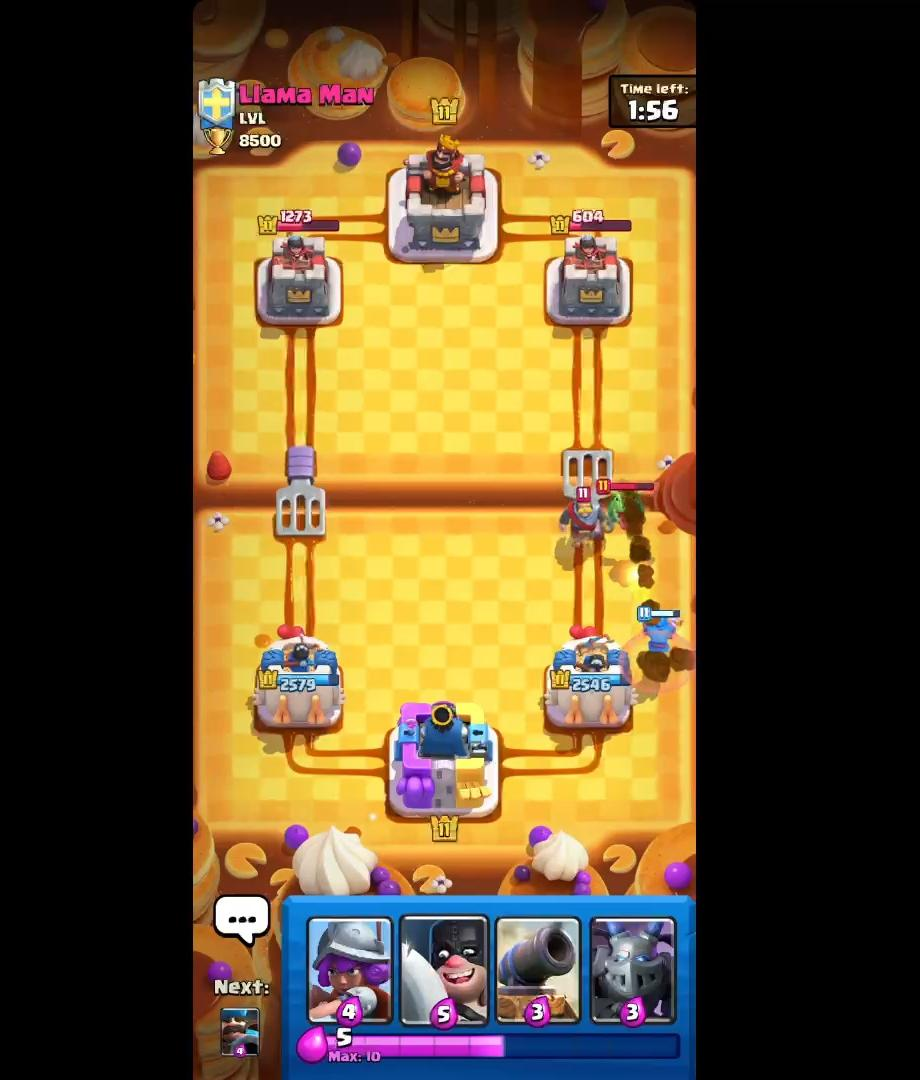Baby Dragon: (590, 473, 651, 537)
Knight: (560, 485, 608, 545)
